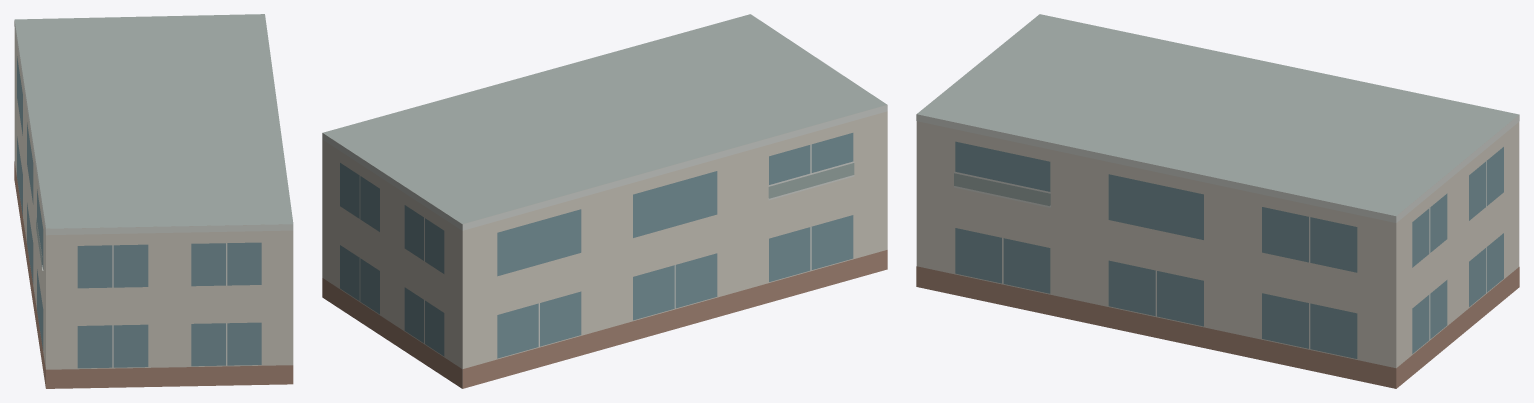
The model's file is survey-upis-32893111.glb.
The picture shows the model from 3 angles, left to right: view 1: azimuth 30°, elevation 25°; view 2: azimuth 150°, elevation 25°; view 3: azimuth 270°, elevation 25°; orthographic projection. The views are drawn at different scales.
Visible parts, largest first — view 1: survey-upis-32893111.tmp; view 2: survey-upis-32893111.tmp; view 3: survey-upis-32893111.tmp.
Part boxes in pixels (left/top/right/bottom): survey-upis-32893111.tmp: left=14, top=14, right=293, bottom=388; survey-upis-32893111.tmp: left=322, top=14, right=887, bottom=388; survey-upis-32893111.tmp: left=916, top=14, right=1519, bottom=388.
Size of the model in its own units: 15.33 by 6.1 by 19.32.
